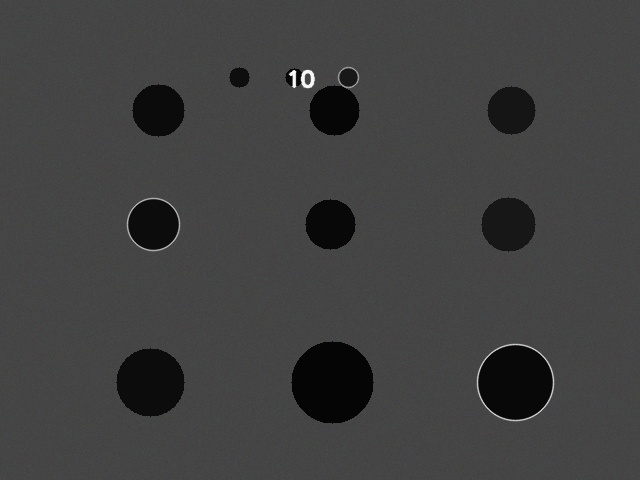hole: (291, 341, 373, 423), (477, 344, 553, 420), (116, 348, 184, 416), (481, 197, 535, 251), (132, 84, 184, 136), (127, 198, 179, 250), (309, 85, 359, 135), (305, 199, 355, 249), (487, 86, 535, 134), (229, 67, 249, 87), (338, 67, 358, 87), (285, 68, 303, 86)
